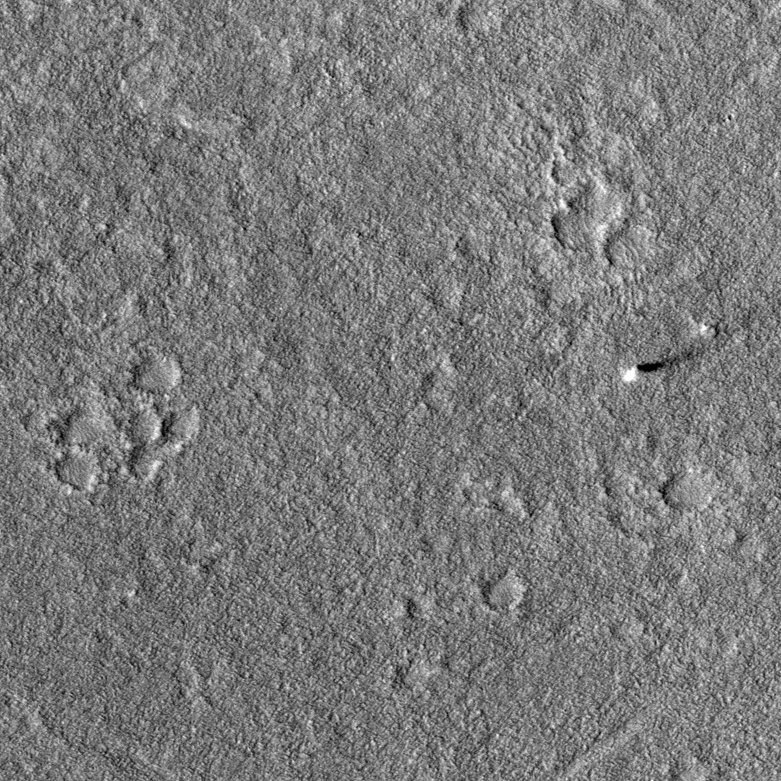dust_devil: (622, 339, 713, 384)
